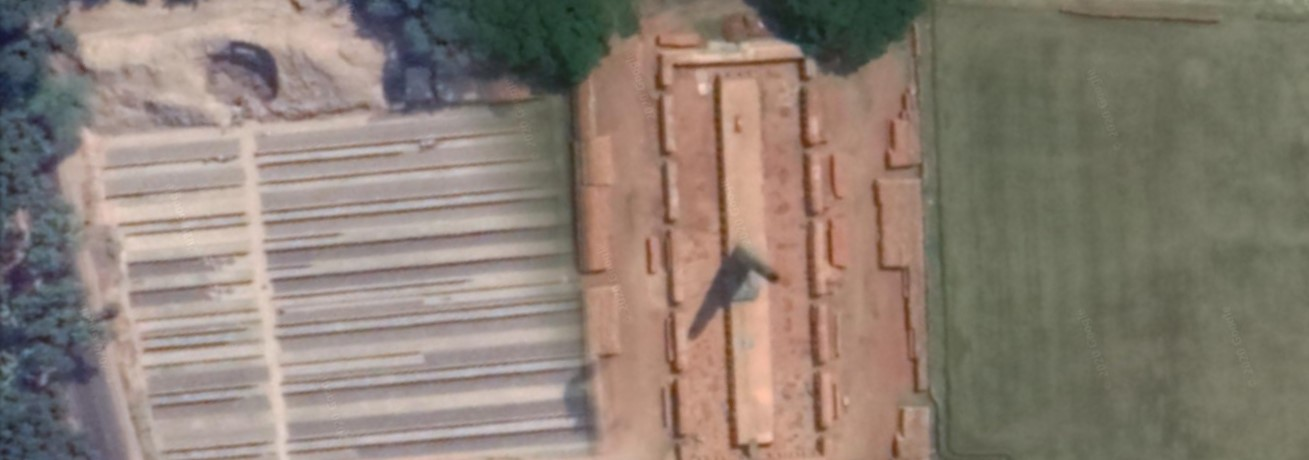kiln: (621, 70, 877, 460)
